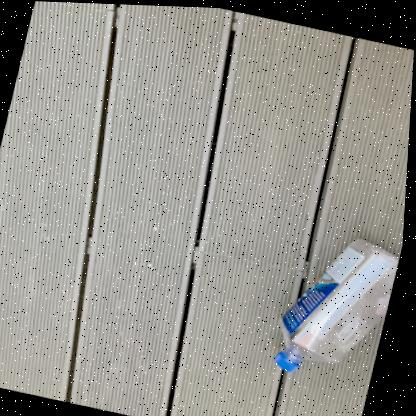Plastic: (278, 235, 401, 369)
